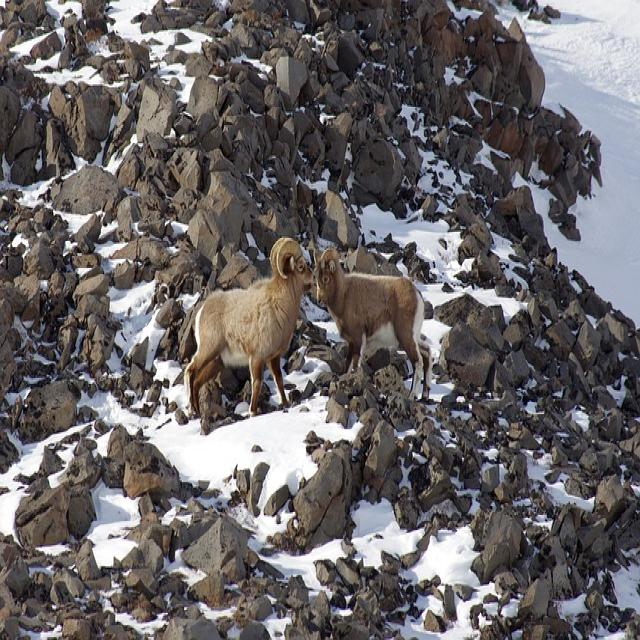goat: (186, 239, 312, 434), (313, 256, 422, 367)
